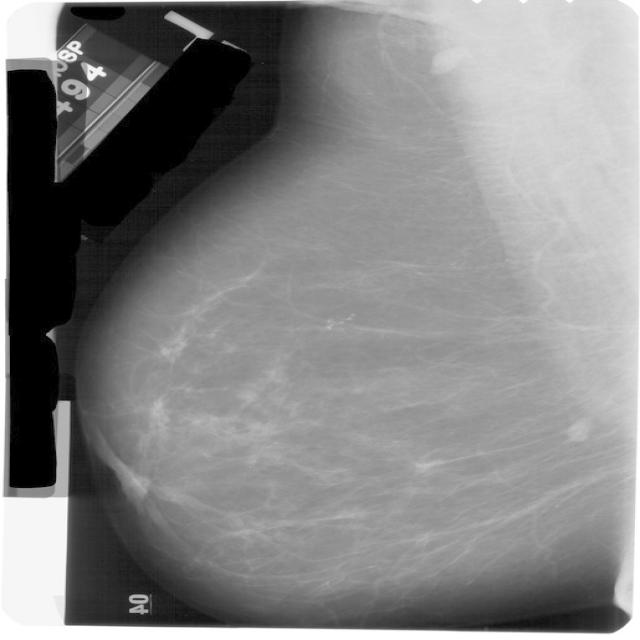tumour: (567, 413, 594, 442)
